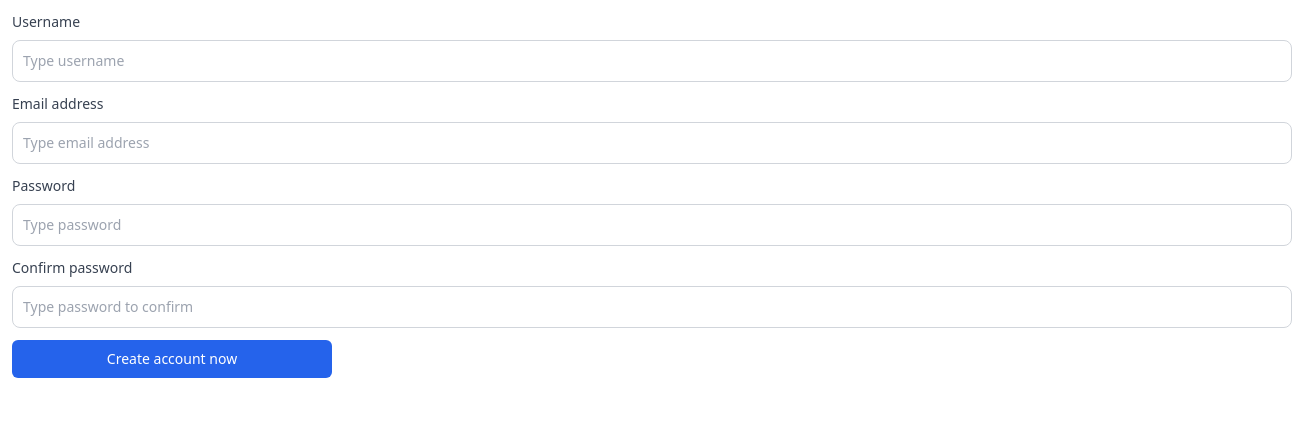
Test: Form sign up component › validates username requirements
This screenshot has width=1304, height=443.
// Test minimum length
In the field with placeholder "Type username": x=652, y=61 [12,40,1292,82], type "short"
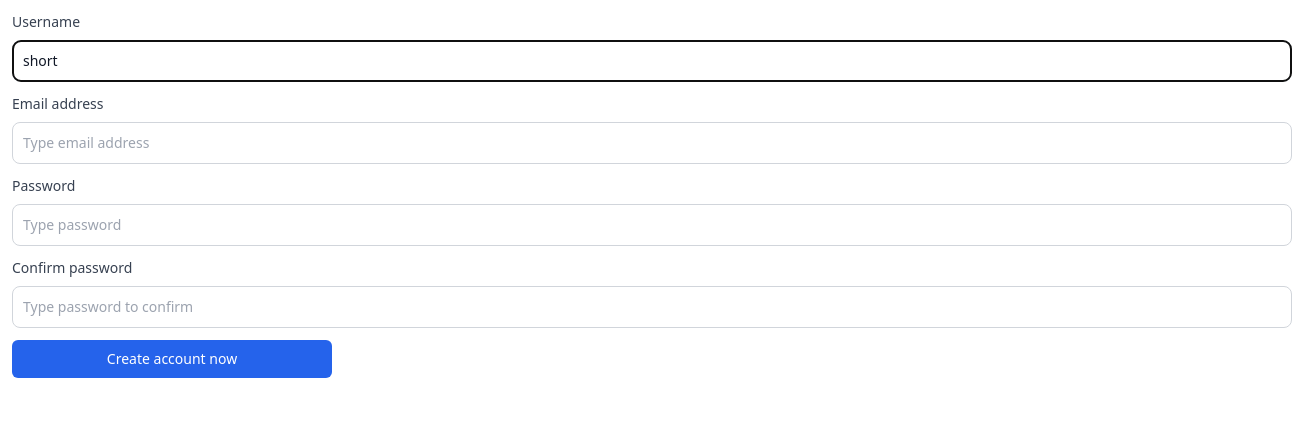
Press Tab
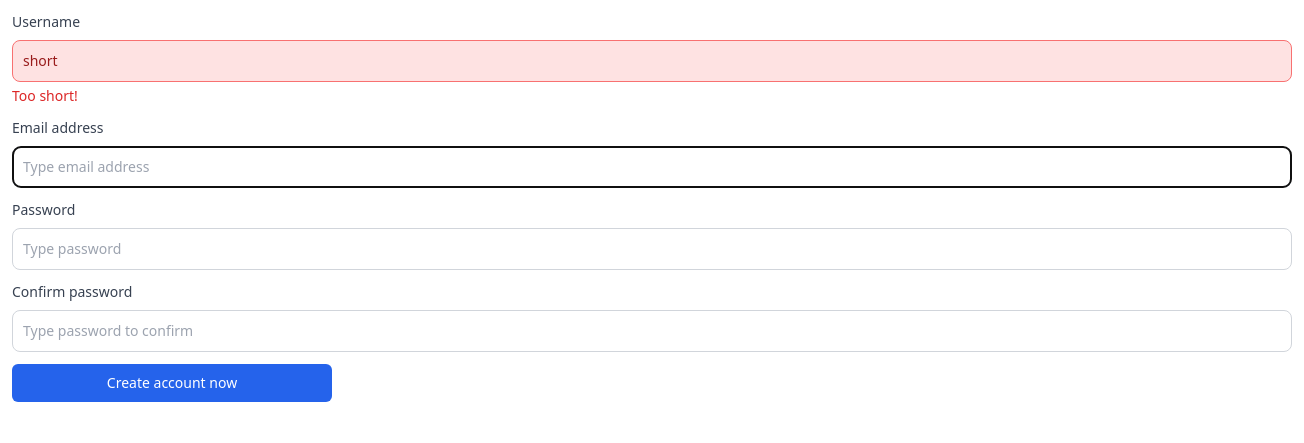
Now the text "Too short!" is shown, box [12,86,78,105]
// Test maximum length
Replace the text in the field with placeholder "Type username" with "thisUsernameIsTooLongForTheValidation": x=652, y=61 [12,40,1292,82]
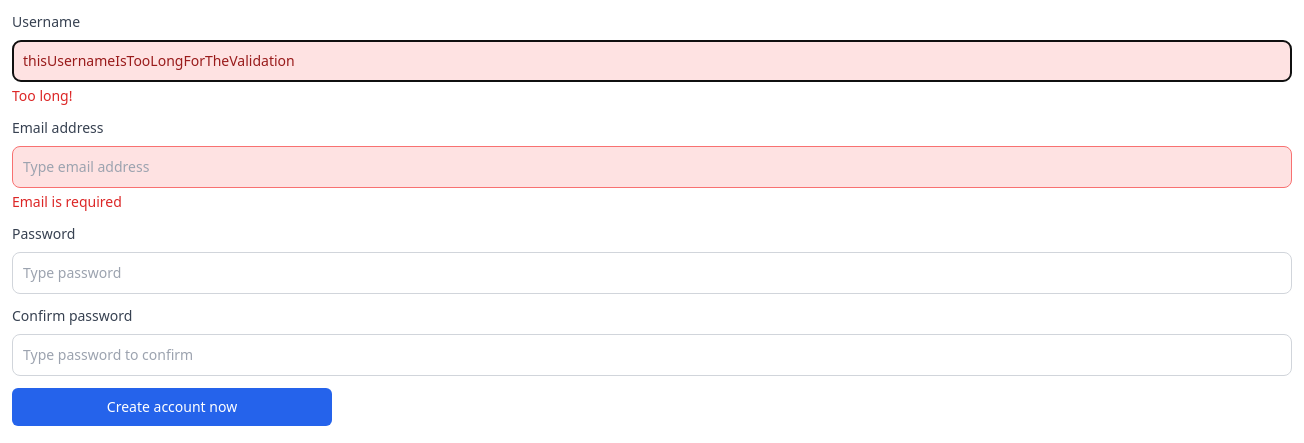
Now the text "Too long!" is shown, box [12,86,72,105]
